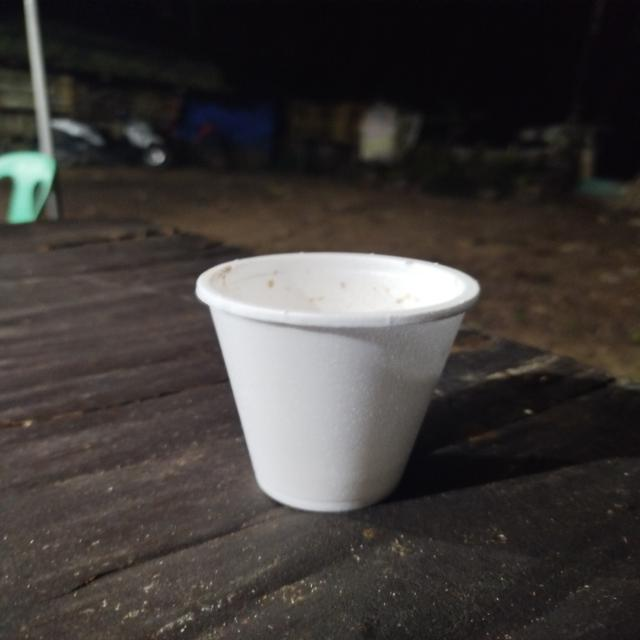plastic: (175, 230, 494, 520)
